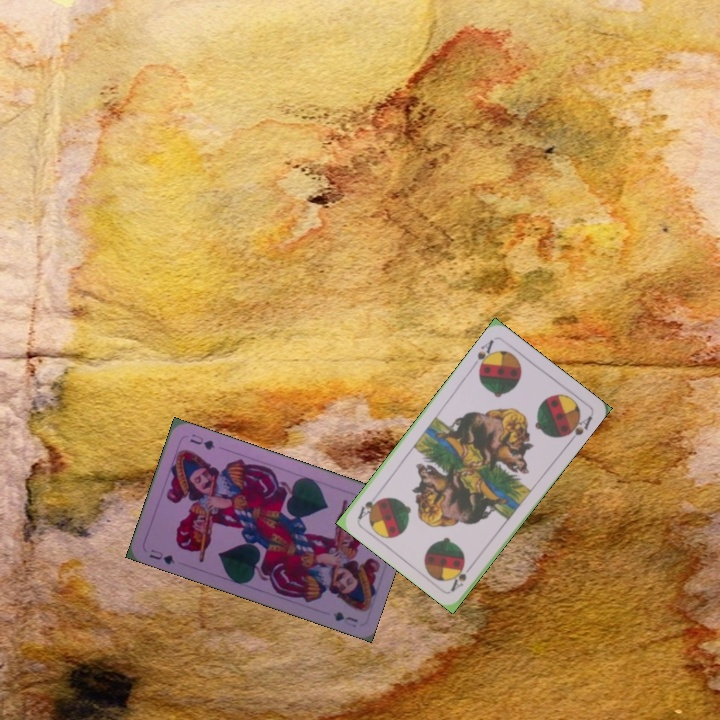GU: (145, 545, 177, 567)
SA: (447, 559, 477, 593), (473, 335, 497, 374)
